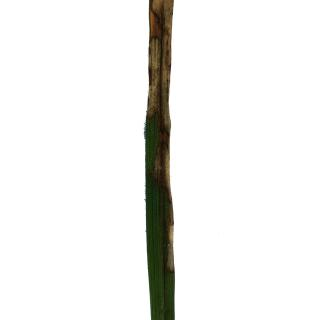Hawar-Daun: (150, 0, 173, 125), (163, 206, 182, 282), (152, 137, 177, 191)
